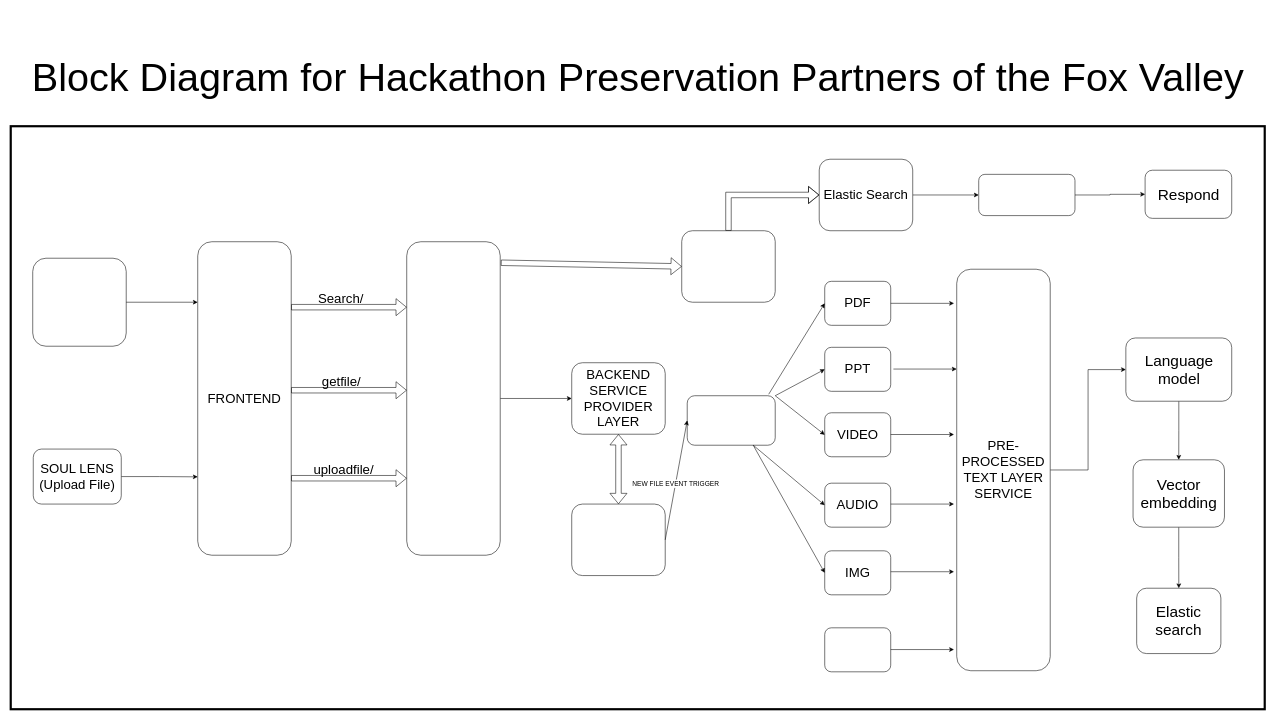
Some shapes in this 1275 by 719 pixel diagram are drawn without their labels. The centre of each missing label's shape, as x and y in pixels:
"CONTROLLER" goes at point 731,420.
"DOCX" goes at point 857,649.
"FAST API LAYER" goes at point 453,398.
"Filename" goes at point 1026,195.
"PRE-PROCESS QUERY" goes at point 728,266.
"SOUL SEARCH (CONTEXT SEARCHING)" goes at point 79,302.
"STORAGE SERVICE" goes at point 618,540.
